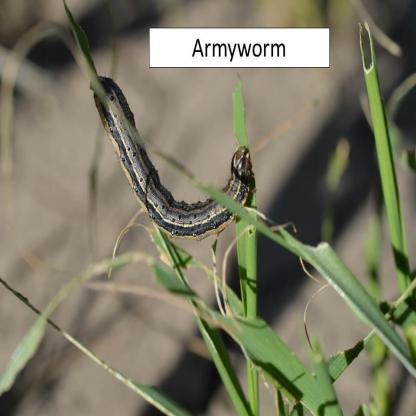armyworm: (89, 72, 255, 242)
